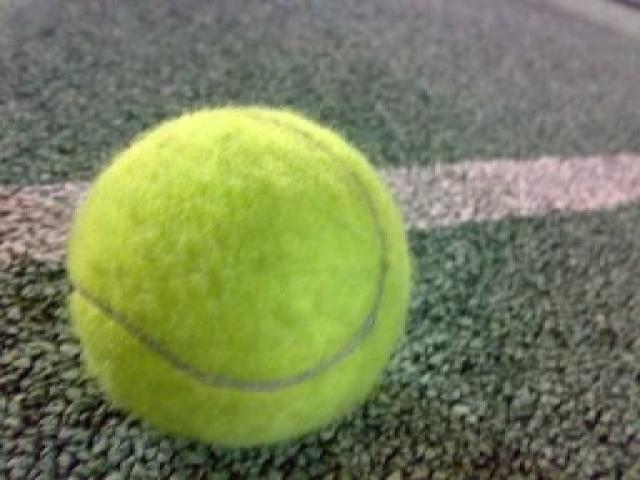tennis-ball: (61, 103, 414, 449)
